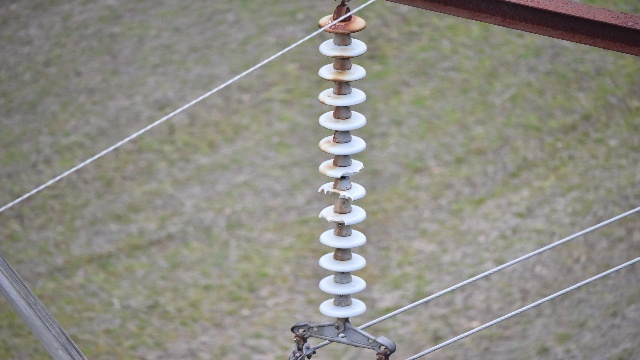broken_local: (316, 185, 357, 202), (335, 160, 365, 182), (318, 211, 347, 227)
insulator_unspecified: (316, 15, 369, 319)
